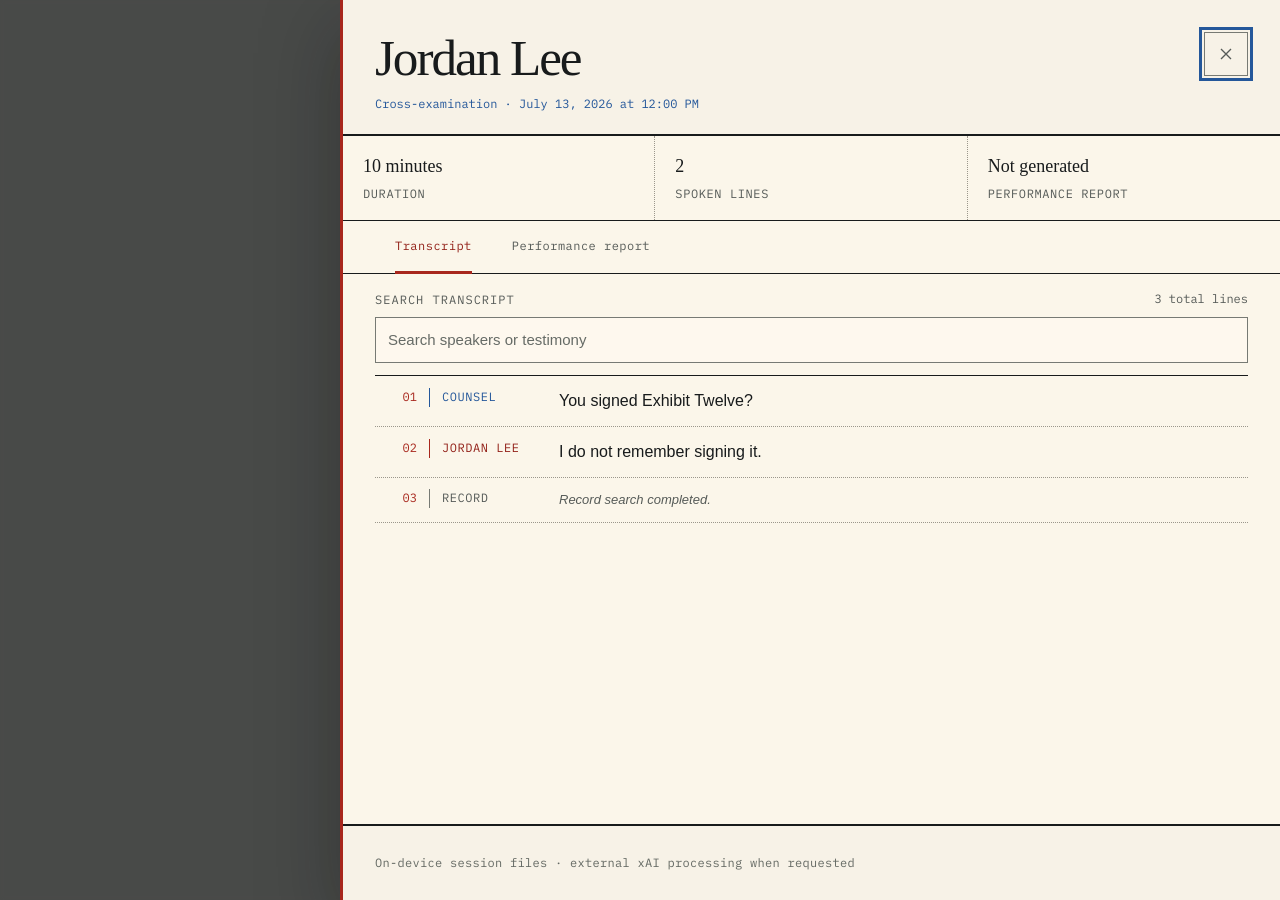
it: SessionReviewDrawer transcript search › discloses external report processing without an absolute privacy promise
Click the tab "Performance report" at [581, 246], box [492,220,670,272]
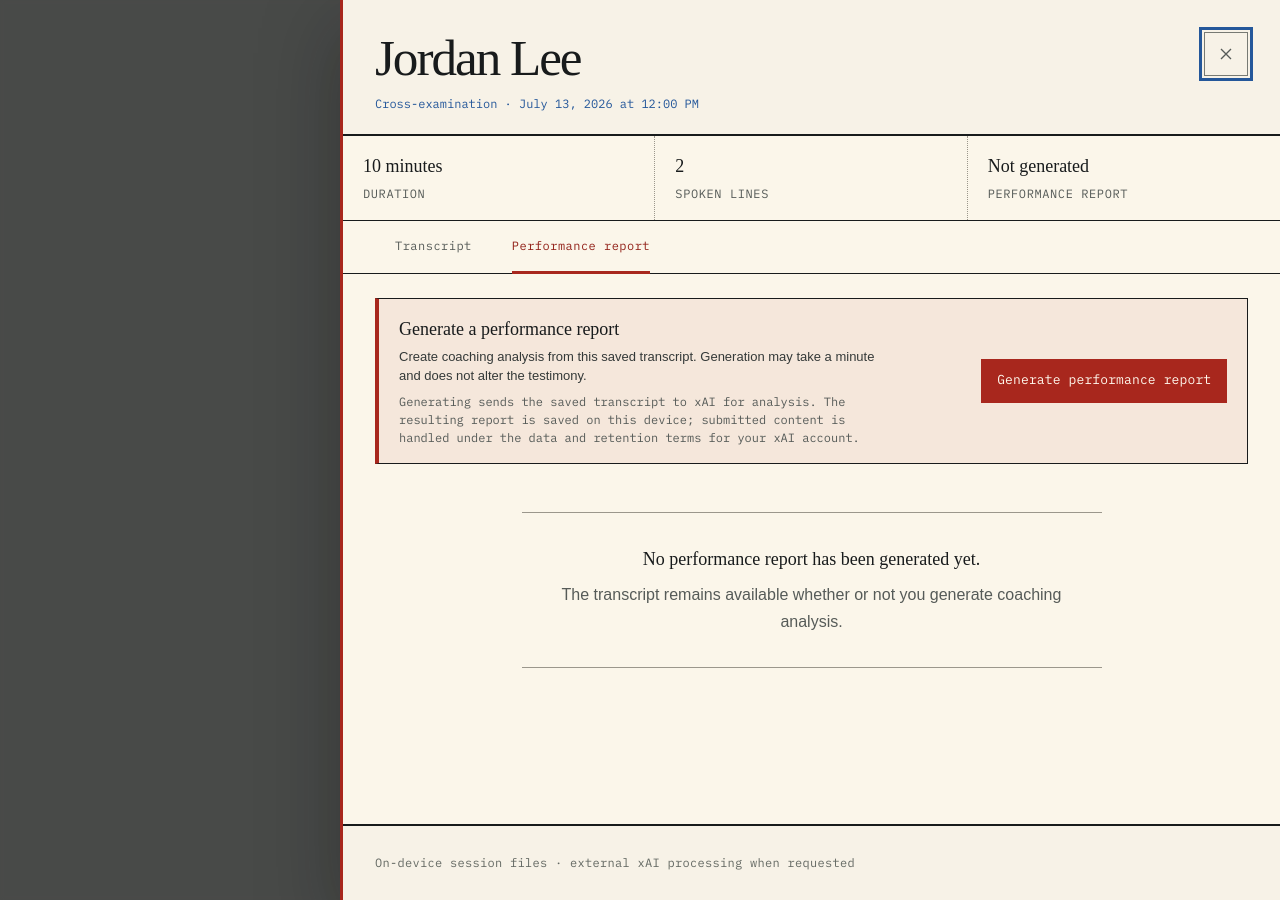
Expected: the text "On-device session files · external xAI processing when requested" is shown, [375,854,855,872]
Now the text "Generating sends the saved transcript to xAI for analysis" is shown, box [399,394,860,445]
